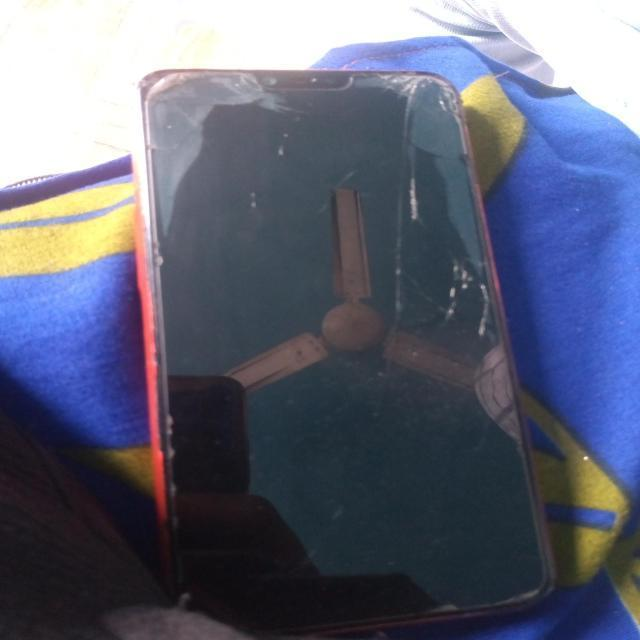cellphone: (43, 30, 590, 640)
